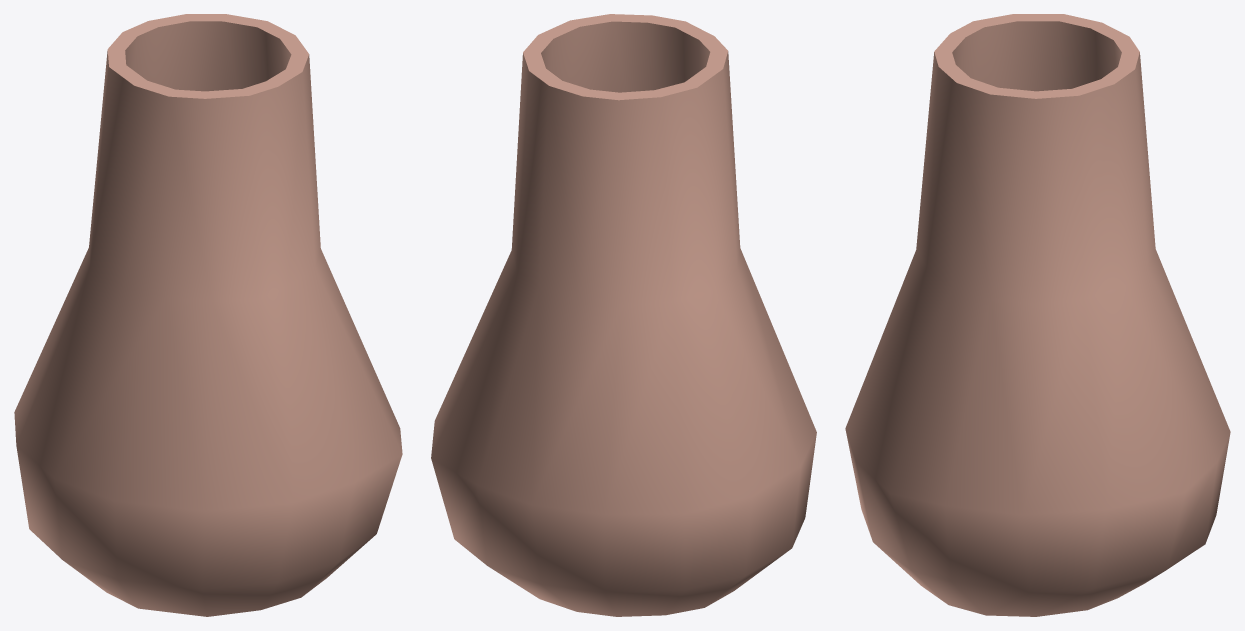
Rendered from SM_Small_Vase.fbx.
The picture shows the model from 3 angles, left to right: view 1: azimuth 30°, elevation 25°; view 2: azimuth 150°, elevation 25°; view 3: azimuth 270°, elevation 25°; orthographic projection.
Visible parts, largest first — view 1: SM_Small_Vase; view 2: SM_Small_Vase; view 3: SM_Small_Vase.
Part boxes in pixels (box(x1,y1,x2,y2)): SM_Small_Vase: box(14, 14, 402, 616); SM_Small_Vase: box(431, 14, 816, 616); SM_Small_Vase: box(845, 14, 1230, 616).
Bounding box in the file's own units: 0.1508 × 0.2221 × 0.1514.
